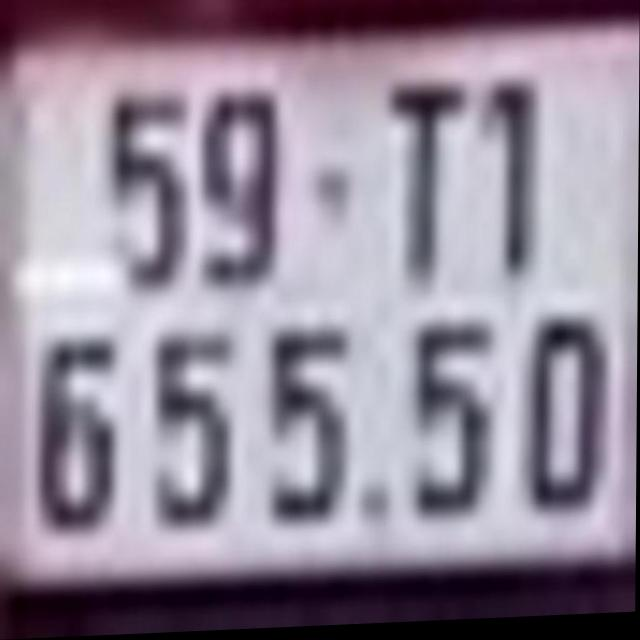0: (528, 317, 606, 514)
1: (485, 70, 538, 281)
5: (105, 89, 192, 295), (413, 318, 497, 527), (270, 322, 351, 531), (151, 324, 231, 527)
6: (37, 327, 121, 534)
9: (196, 89, 285, 293)
T: (382, 81, 469, 293)
